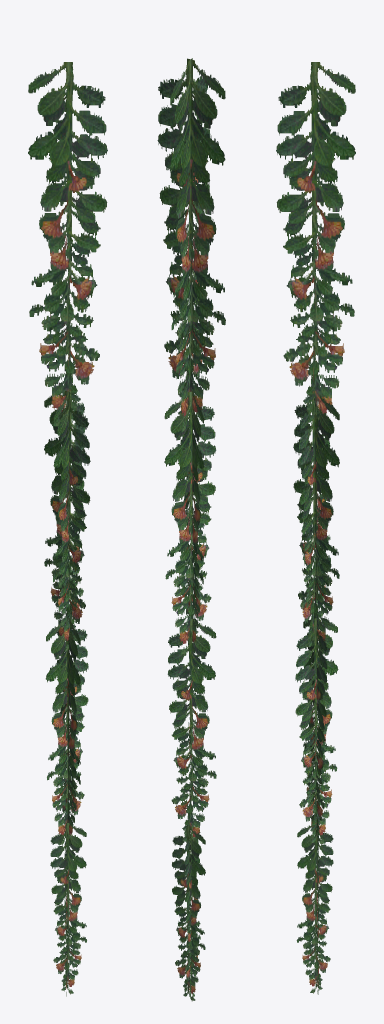
File: plant_lobbynew02_zhiwu_teng.FBX
3 renders of one model, left to right at view 1: azimuth 90°, elevation 25°; view 2: azimuth 150°, elevation 25°; view 3: azimuth 270°, elevation 25°, orthographic.
Parts seen in each view (by area): view 1: plant_lobbynew02_zhiwu_teng; view 2: plant_lobbynew02_zhiwu_teng; view 3: plant_lobbynew02_zhiwu_teng.
Boxes of the visible parts, bbox=[...] form: plant_lobbynew02_zhiwu_teng: bbox=[28, 62, 107, 996]; plant_lobbynew02_zhiwu_teng: bbox=[157, 58, 225, 1001]; plant_lobbynew02_zhiwu_teng: bbox=[276, 62, 355, 994].
Bounding box in the file's own units: 54.59 × 55.72 × 569.
